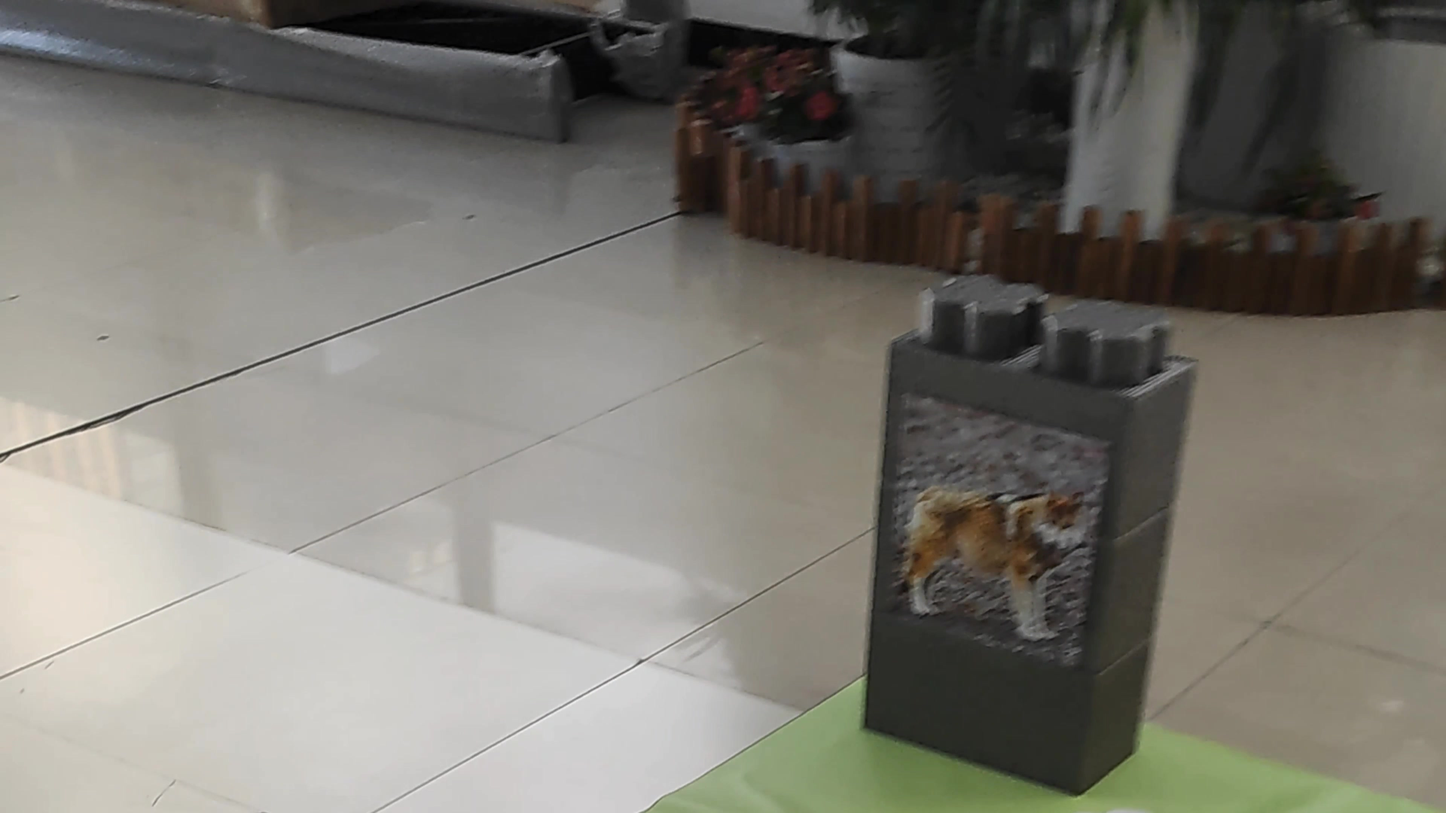wolf: (891, 449, 1080, 653)
